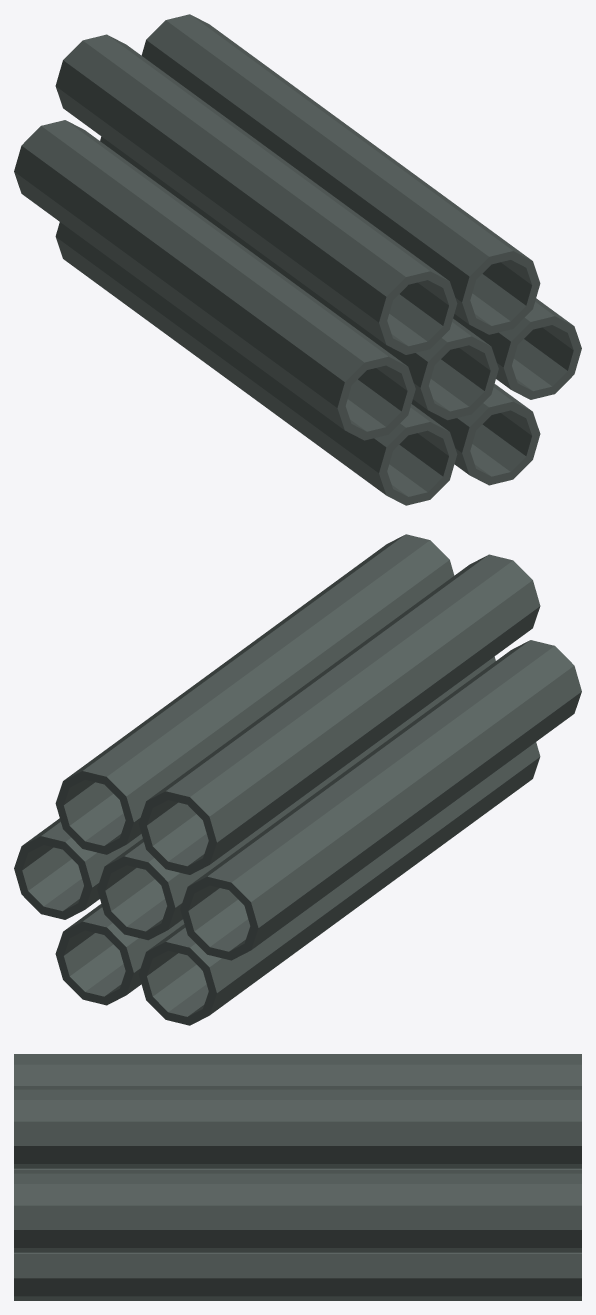
File: Rocket70Seven__TubeLiners.obj
3 views of the same model, one above another, from view 1: azimuth 30°, elevation 25°; view 2: azimuth 150°, elevation 25°; view 3: azimuth 270°, elevation 25° (orthographic). The views are drawn at different scales.
Parts seen in each view (by area): view 1: Tube_05, Tube_04, Tube_03, Tube_06, Tube_01, Tube_07, Tube_02; view 2: Tube_05, Tube_04, Tube_03, Tube_06, Tube_01, Tube_07, Tube_02; view 3: Tube_02, Tube_03, Tube_07, Tube_04, Tube_01.
Part boxes in pixels (x1,y1,x2,y2): Tube_05: (14,120,415,440); Tube_04: (55,34,457,354); Tube_03: (141,14,540,334); Tube_06: (55,222,457,505); Tube_01: (100,136,498,420); Tube_07: (411,384,540,485); Tube_02: (453,298,581,399); Tube_05: (180,640,581,960); Tube_04: (138,554,540,874); Tube_03: (55,534,454,854); Tube_06: (138,742,540,1025); Tube_01: (97,656,495,940); Tube_07: (55,904,184,1005); Tube_02: (14,818,142,919); Tube_02: (14,1173,581,1252); Tube_03: (14,1089,581,1168); Tube_07: (14,1252,581,1300); Tube_04: (14,1054,581,1089); Tube_01: (14,1168,581,1173).
Bounding box in the file's own units: 0.468 × 0.4181 × 1.07.
